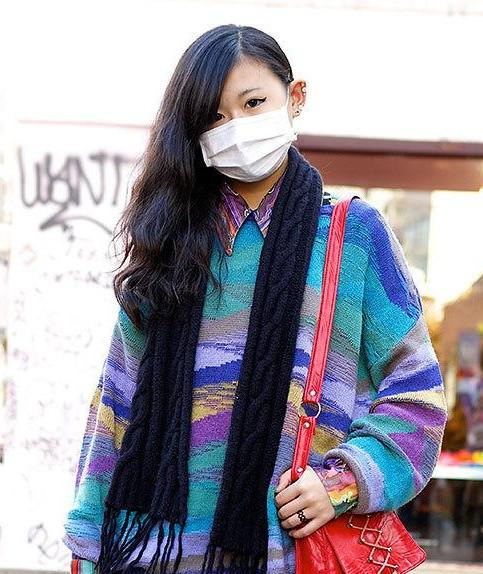OK: (201, 78, 298, 175)
